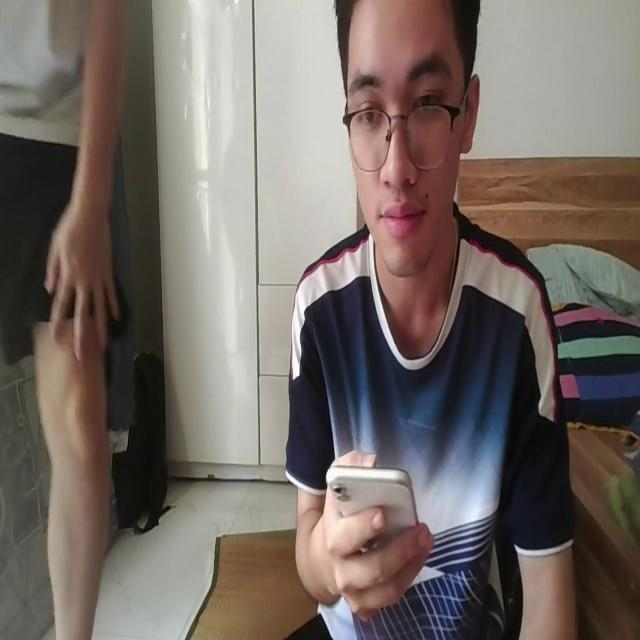extra_person: (1, 0, 131, 640)
phone: (326, 456, 424, 550)
student: (287, 2, 577, 640)
